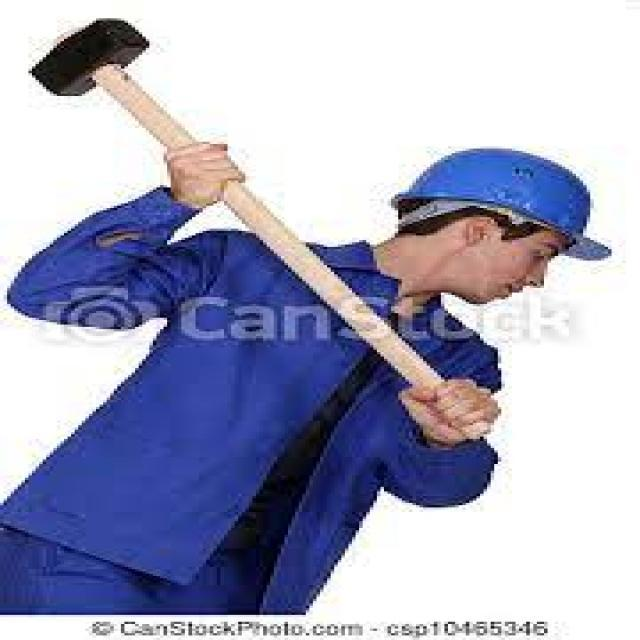hammer: (19, 11, 503, 446)
